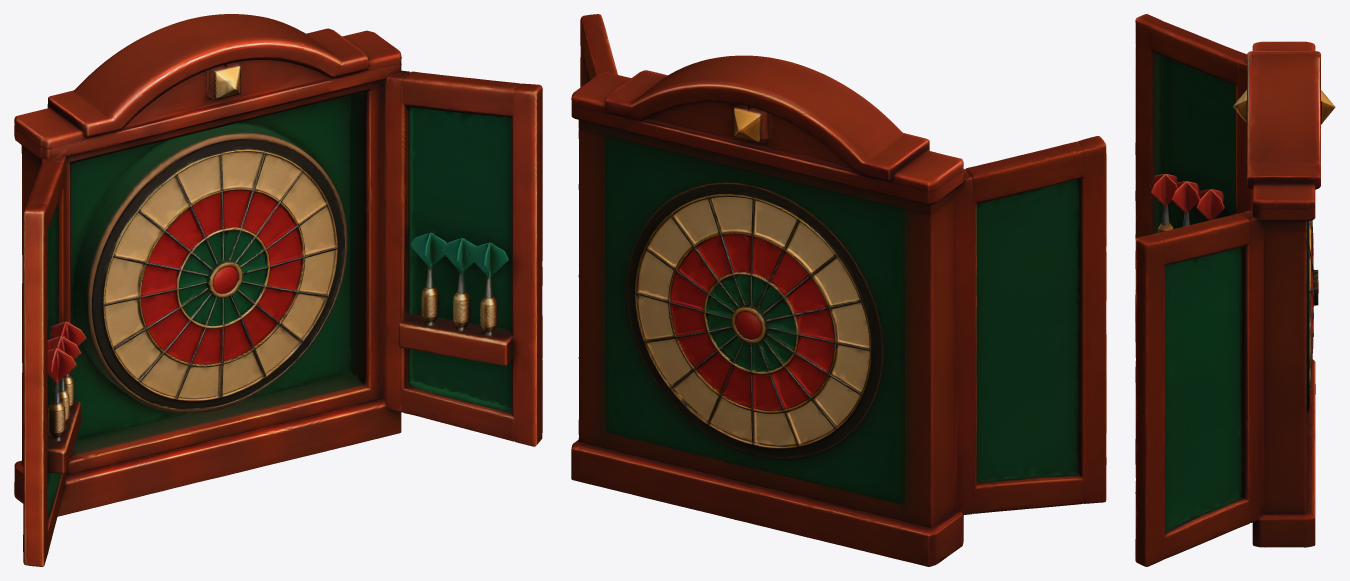
Rendered from dartboard.glb.
3 views of the same model, side by side, from view 1: azimuth 30°, elevation 25°; view 2: azimuth 150°, elevation 25°; view 3: azimuth 270°, elevation 25° (orthographic). The views are drawn at different scales.
Visible parts, largest first — view 1: tripo_node_579447e9-7e5d-4184-9e65-33f257fbed72; view 2: tripo_node_579447e9-7e5d-4184-9e65-33f257fbed72; view 3: tripo_node_579447e9-7e5d-4184-9e65-33f257fbed72.
Boxes of the visible parts, x1,y1,x2,y2 form: tripo_node_579447e9-7e5d-4184-9e65-33f257fbed72: (14,14,542,566); tripo_node_579447e9-7e5d-4184-9e65-33f257fbed72: (571,14,1106,566); tripo_node_579447e9-7e5d-4184-9e65-33f257fbed72: (1135,14,1335,566).
Size of the model in its own units: 0.9802 by 0.7821 by 0.3589.
Materials: 1 (1 with a texture image).
